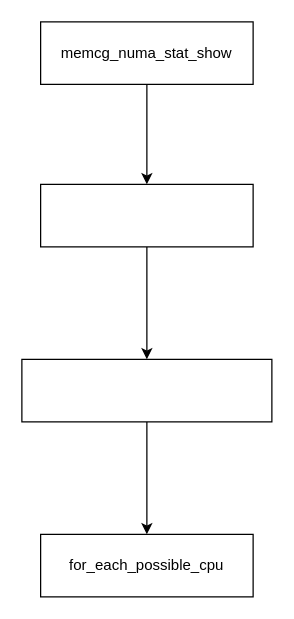
Image size: 294x619. Some labels were removed from this diagram. Here are the shapes that lost their labels. From the top down, the box of each, then its label:
(39, 183, 253, 247): for_each_node_state
(21, 358, 272, 422): mem_cgroup_node_nr_lru_pages
